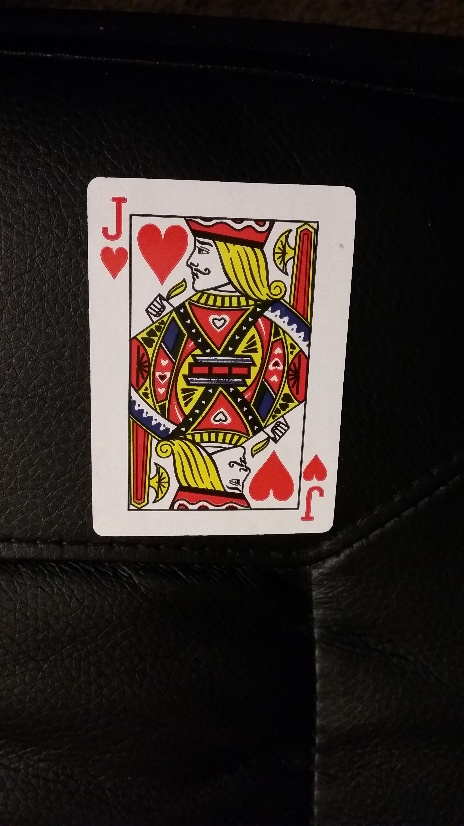Hj: (97, 191, 130, 280), (302, 449, 328, 525)
